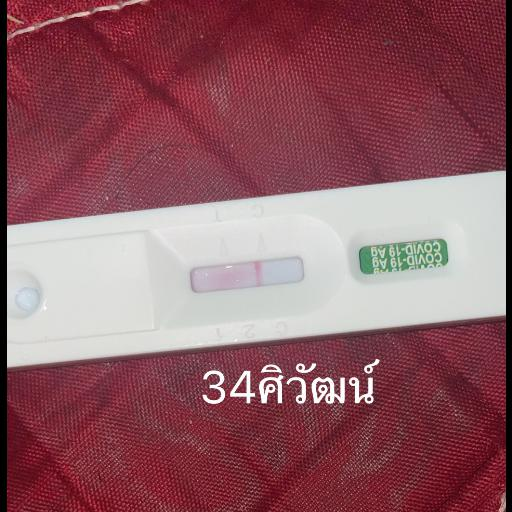Neg: (14, 175, 496, 368)
